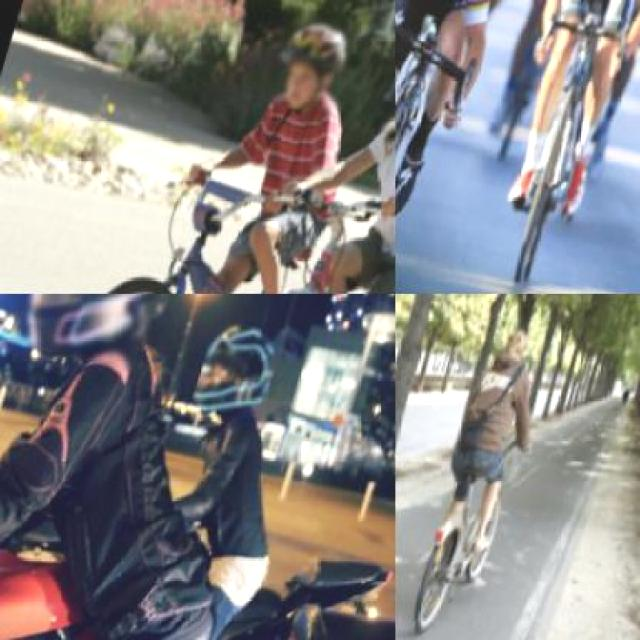With Helmet: (8, 294, 197, 378), (262, 7, 364, 122), (195, 316, 290, 424), (371, 41, 394, 154)
Without Helmet: (501, 321, 539, 368)
